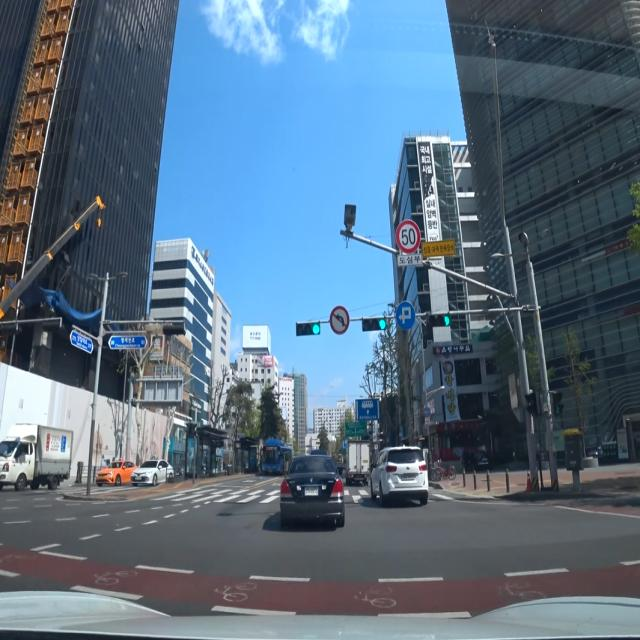Green Light: (425, 312, 451, 328), (311, 322, 321, 336), (378, 319, 386, 330), (443, 316, 450, 326)
